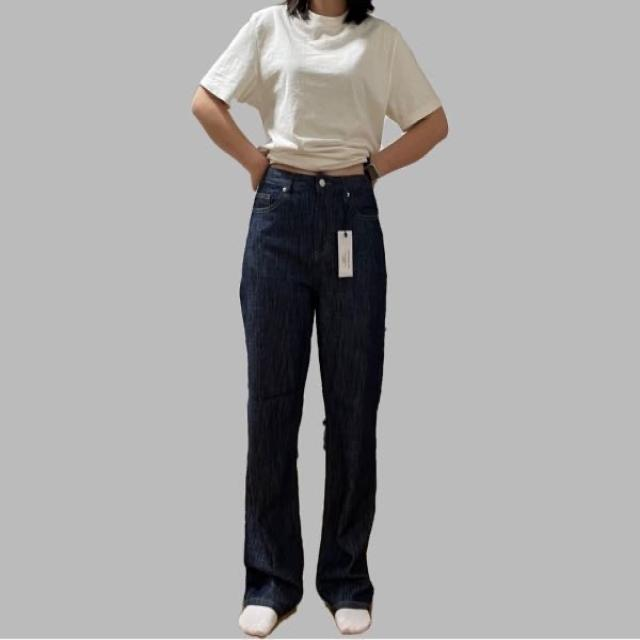denimpants: (240, 163, 388, 618)
shortsleeve: (201, 6, 442, 173)
